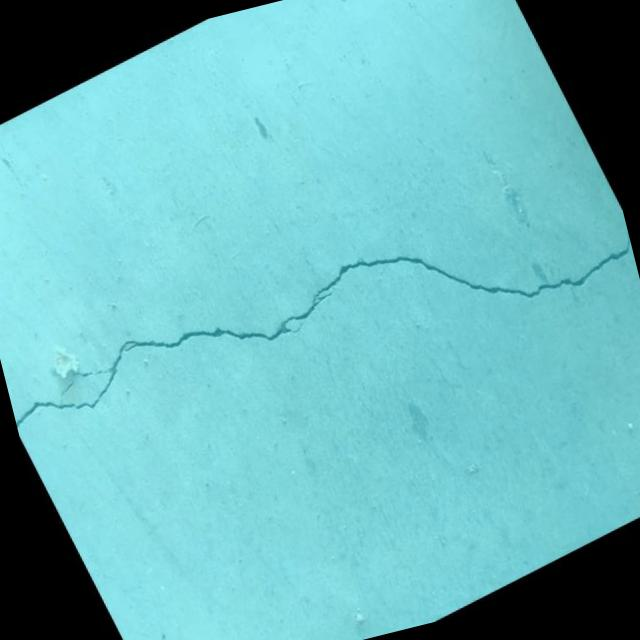crack: (0, 105, 640, 550)
